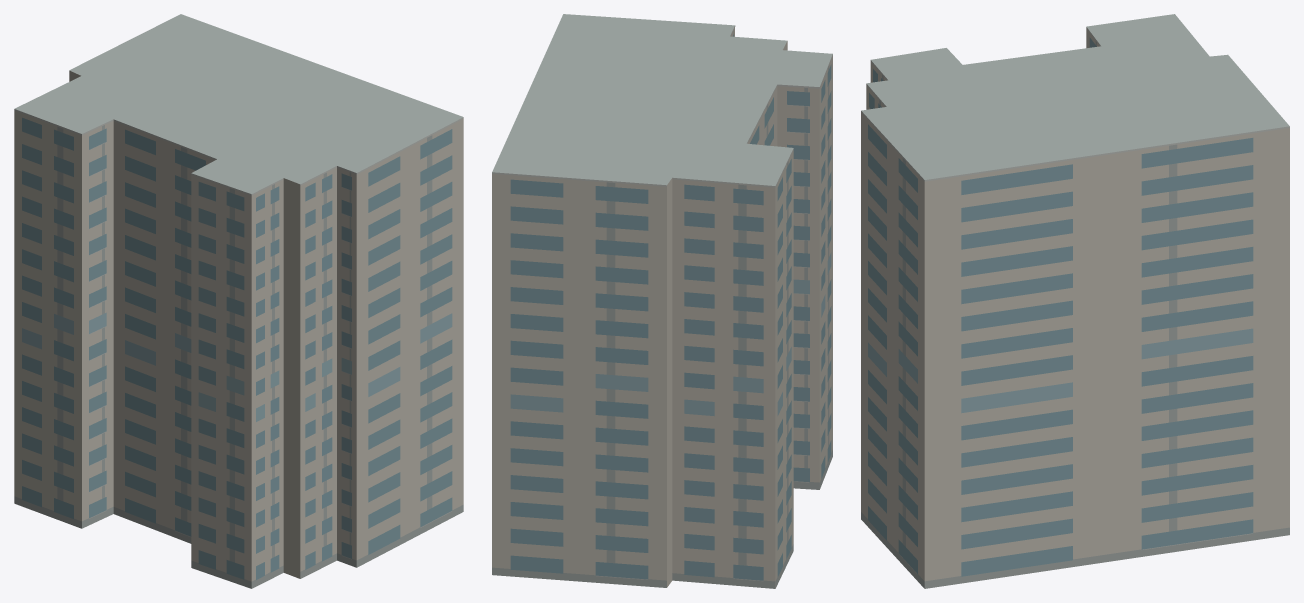
The model's file is survey-upis-32958936.glb.
3 views of the same model, side by side, from view 1: azimuth 30°, elevation 25°; view 2: azimuth 150°, elevation 25°; view 3: azimuth 270°, elevation 25° (orthographic). The views are drawn at different scales.
Visible parts, largest first — view 1: survey-upis-32958936.tmp; view 2: survey-upis-32958936.tmp; view 3: survey-upis-32958936.tmp.
Boxes of the visible parts, x1,y1,x2,y2 form: survey-upis-32958936.tmp: [14, 14, 463, 588]; survey-upis-32958936.tmp: [492, 14, 832, 588]; survey-upis-32958936.tmp: [861, 14, 1289, 588].
Bounding box in the file's own units: 53.35 × 61.2 × 58.18.
